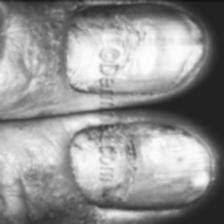Toxin: (63, 6, 202, 92), (81, 120, 212, 211)
